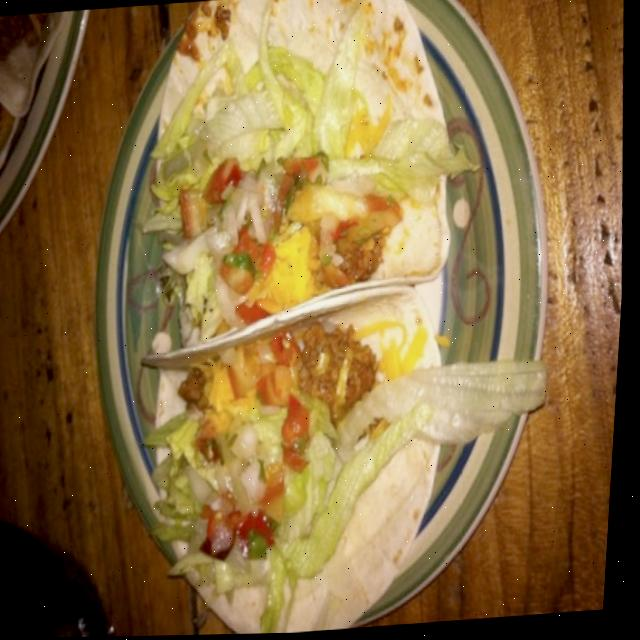面包点心: (75, 6, 557, 627)
